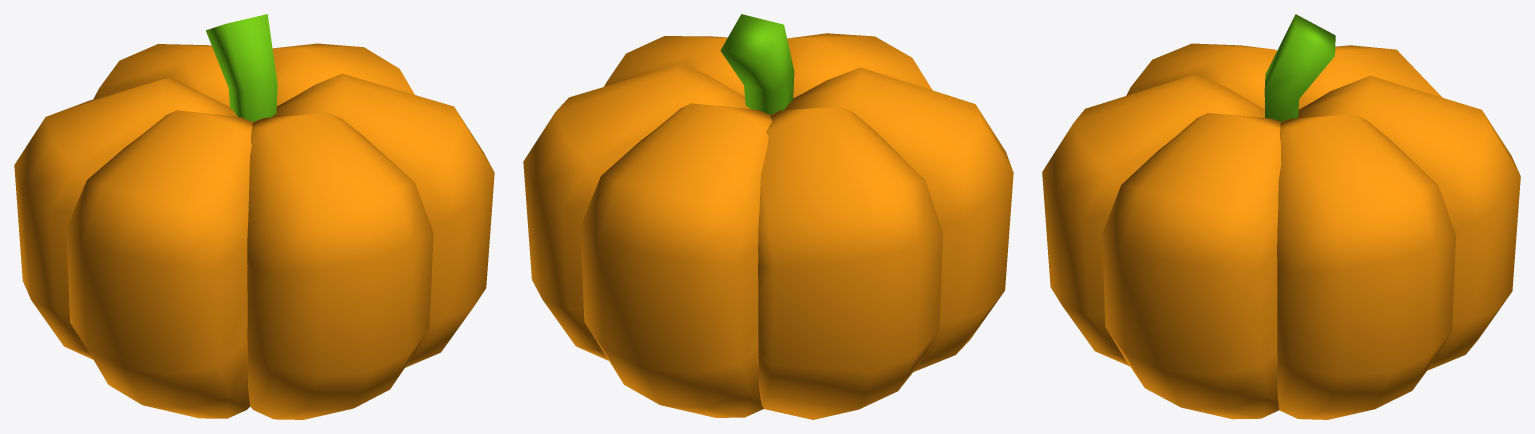
The model's file is PumpkinLow.fbx.
3 renders of one model, left to right at view 1: azimuth 30°, elevation 25°; view 2: azimuth 150°, elevation 25°; view 3: azimuth 270°, elevation 25°, orthographic. The views are drawn at different scales.
Visible parts, largest first — view 1: pCube6; view 2: pCube6; view 3: pCube6.
Part boxes in pixels (x1=…): pCube6: x1=14, y1=14, x2=494, y2=419; pCube6: x1=523, y1=14, x2=1013, y2=419; pCube6: x1=1042, y1=14, x2=1520, y2=419.
Size of the model in its own units: 3.03 by 2.66 by 3.21.
Materials: 1 (1 with a texture image).
